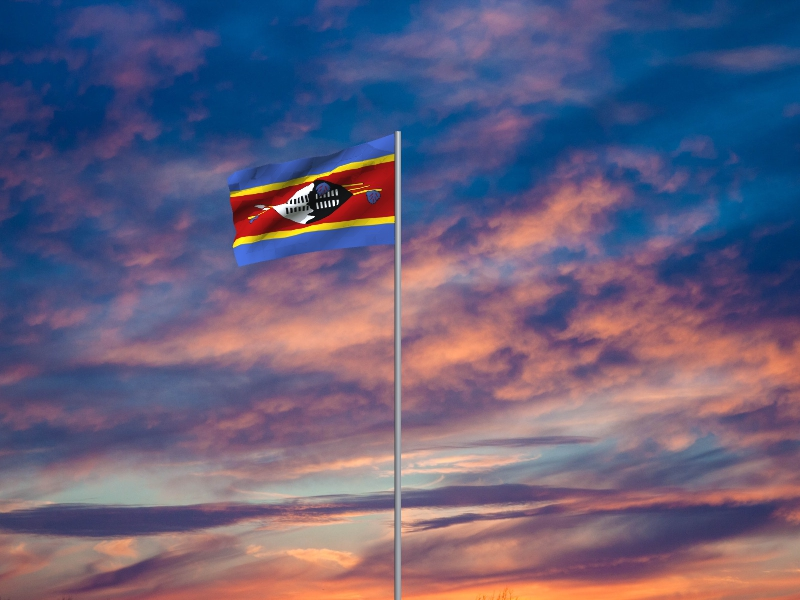sz: (227, 133, 395, 269)
